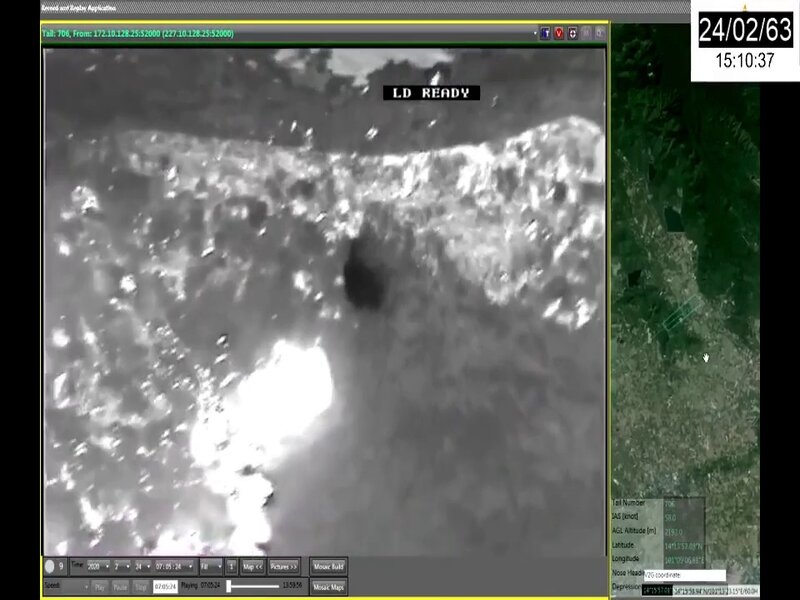Fire: (148, 336, 336, 556)
